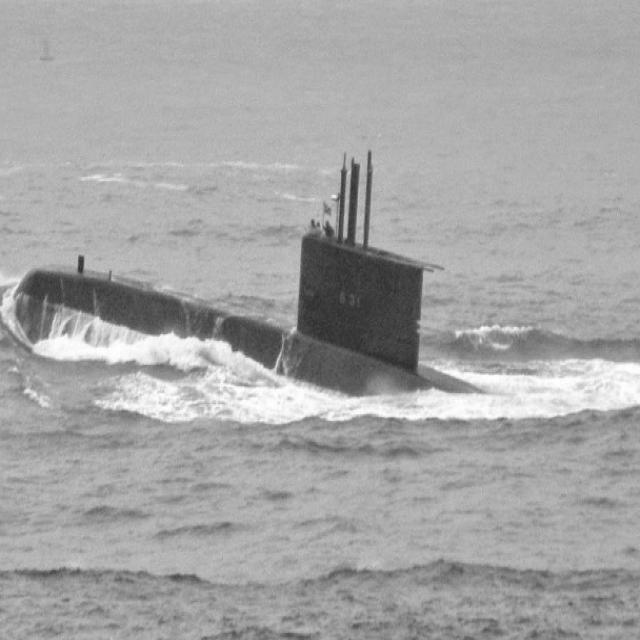submarine: (2, 125, 501, 396)
